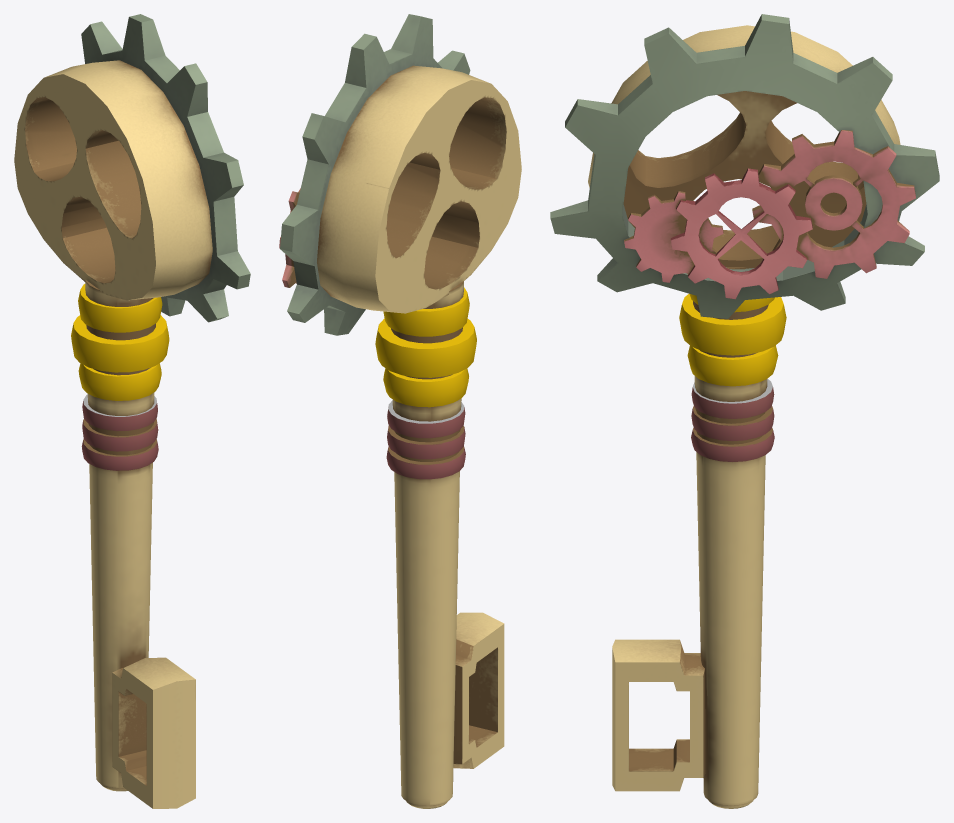
File: Steampunk_Key.fbx
3 views of the same model, side by side, from view 1: azimuth 30°, elevation 25°; view 2: azimuth 150°, elevation 25°; view 3: azimuth 270°, elevation 25° (orthographic). The views are drawn at different scales.
Visible parts, largest first — view 1: Key; view 2: Key; view 3: Key.
Part boxes in pixels (box(x1,y1,x2,y2)): Key: box(14, 14, 250, 808); Key: box(279, 14, 521, 808); Key: box(550, 14, 939, 808).
Bounding box in the file's own units: 1.43 × 9.41 × 4.12.
